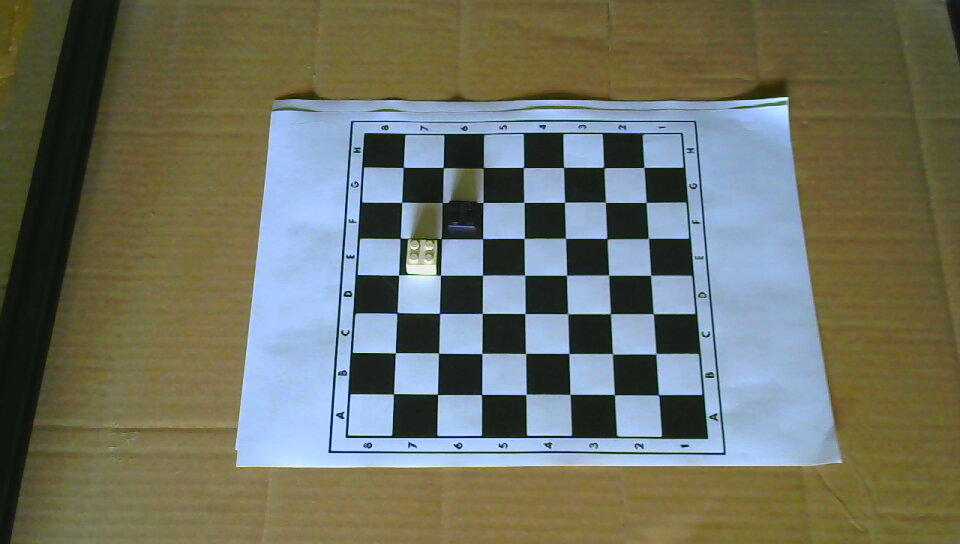bp: (445, 197, 480, 237)
wp: (405, 236, 440, 277)
